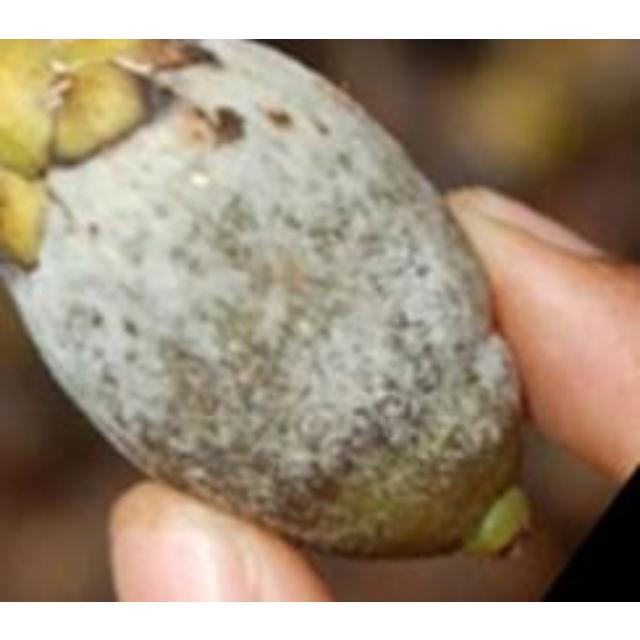damaged: (0, 38, 535, 563)
